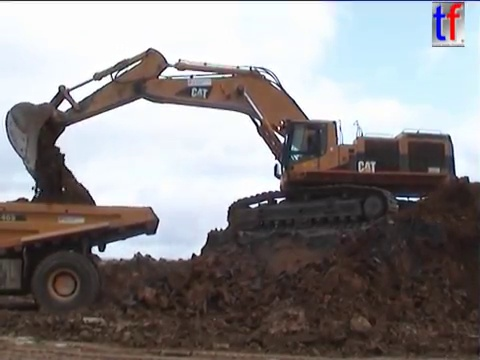excavator: (2, 44, 471, 237)
truck: (1, 198, 162, 320)
